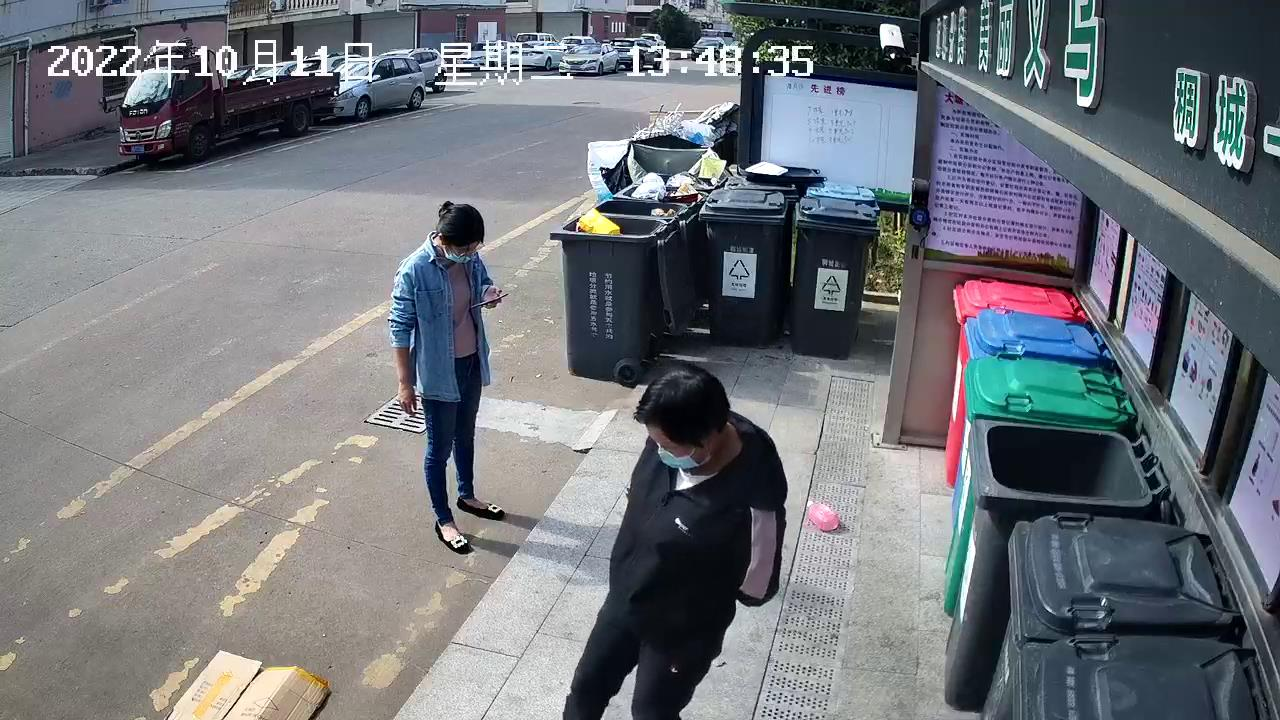person: (549, 356, 795, 720)
suliaozhipin: (799, 494, 847, 534)
worker: (382, 197, 514, 559)
zhizhipin: (157, 643, 342, 720)
